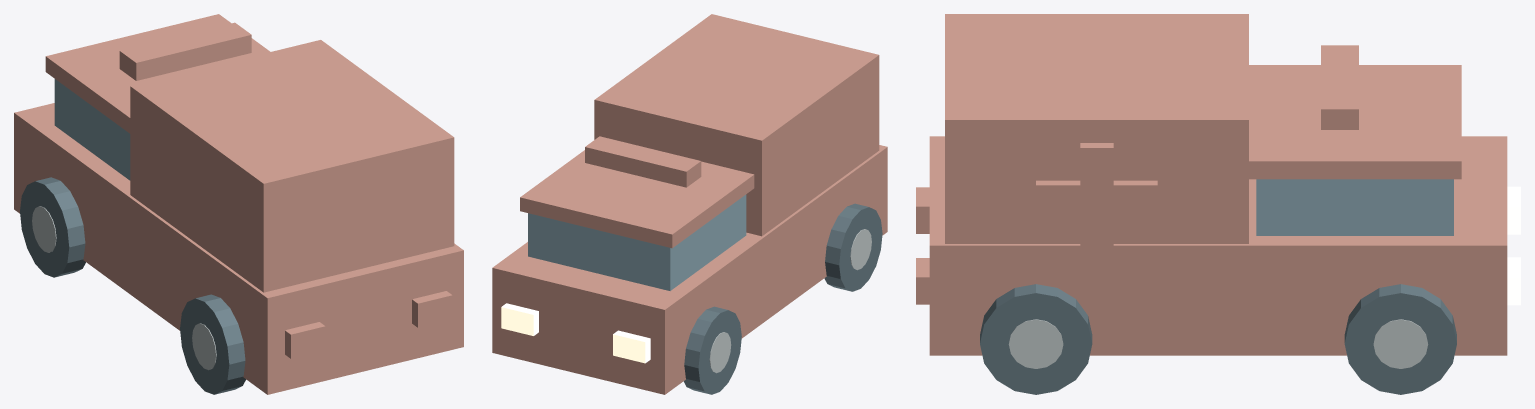
File: remaster_vehicle_3.glb
The picture shows the model from 3 angles, left to right: view 1: azimuth 30°, elevation 25°; view 2: azimuth 150°, elevation 25°; view 3: azimuth 270°, elevation 25°; orthographic projection. The views are drawn at different scales.
Visible parts, largest first — view 1: remaster_vehicle_3 red, remaster_vehicle_3 dark, remaster_vehicle_3 glass, remaster_vehicle_3 metal; view 2: remaster_vehicle_3 red, remaster_vehicle_3 glass, remaster_vehicle_3 dark, remaster_vehicle_3 warm, remaster_vehicle_3 metal; view 3: remaster_vehicle_3 red, remaster_vehicle_3 dark, remaster_vehicle_3 glass, remaster_vehicle_3 metal, remaster_vehicle_3 warm.
Boxes of the visible parts, x1,y1,x2,y2 form: remaster_vehicle_3 red: (14, 14, 463, 394); remaster_vehicle_3 dark: (20, 177, 245, 394); remaster_vehicle_3 glass: (54, 79, 130, 180); remaster_vehicle_3 metal: (32, 206, 216, 370); remaster_vehicle_3 red: (492, 14, 887, 394); remaster_vehicle_3 glass: (528, 194, 746, 290); remaster_vehicle_3 dark: (683, 203, 882, 394); remaster_vehicle_3 warm: (501, 303, 650, 363); remaster_vehicle_3 metal: (709, 229, 871, 373); remaster_vehicle_3 red: (916, 14, 1507, 355); remaster_vehicle_3 dark: (980, 284, 1456, 394); remaster_vehicle_3 glass: (1256, 179, 1453, 235); remaster_vehicle_3 metal: (1008, 319, 1428, 368); remaster_vehicle_3 warm: (1507, 186, 1520, 305).
Bounding box in the file's own units: 1.99 × 1.92 × 3.98.
